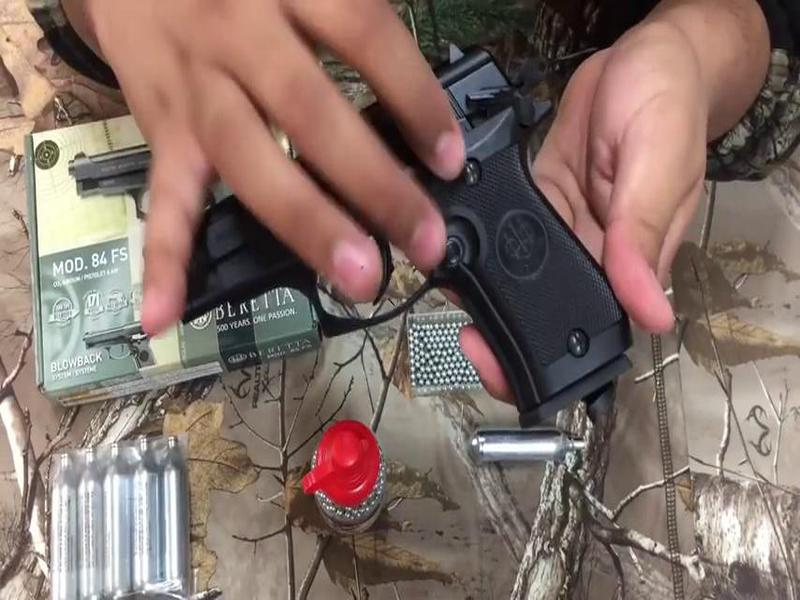Pistola: (117, 64, 691, 429)
